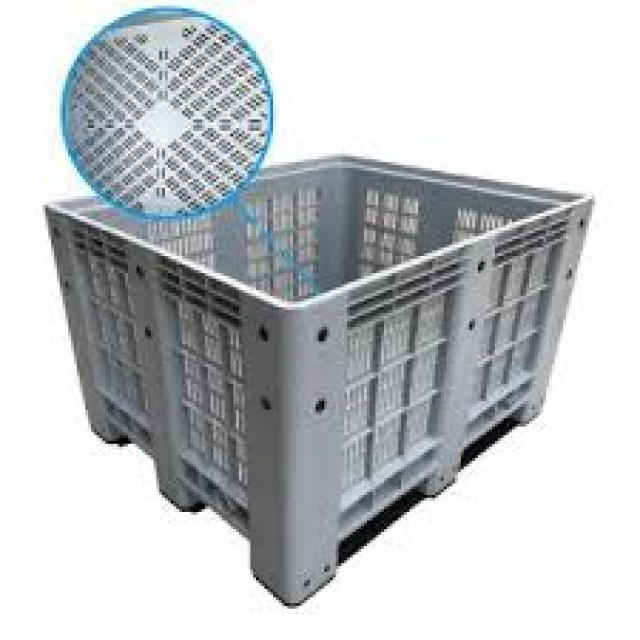basket: (0, 112, 593, 640)
